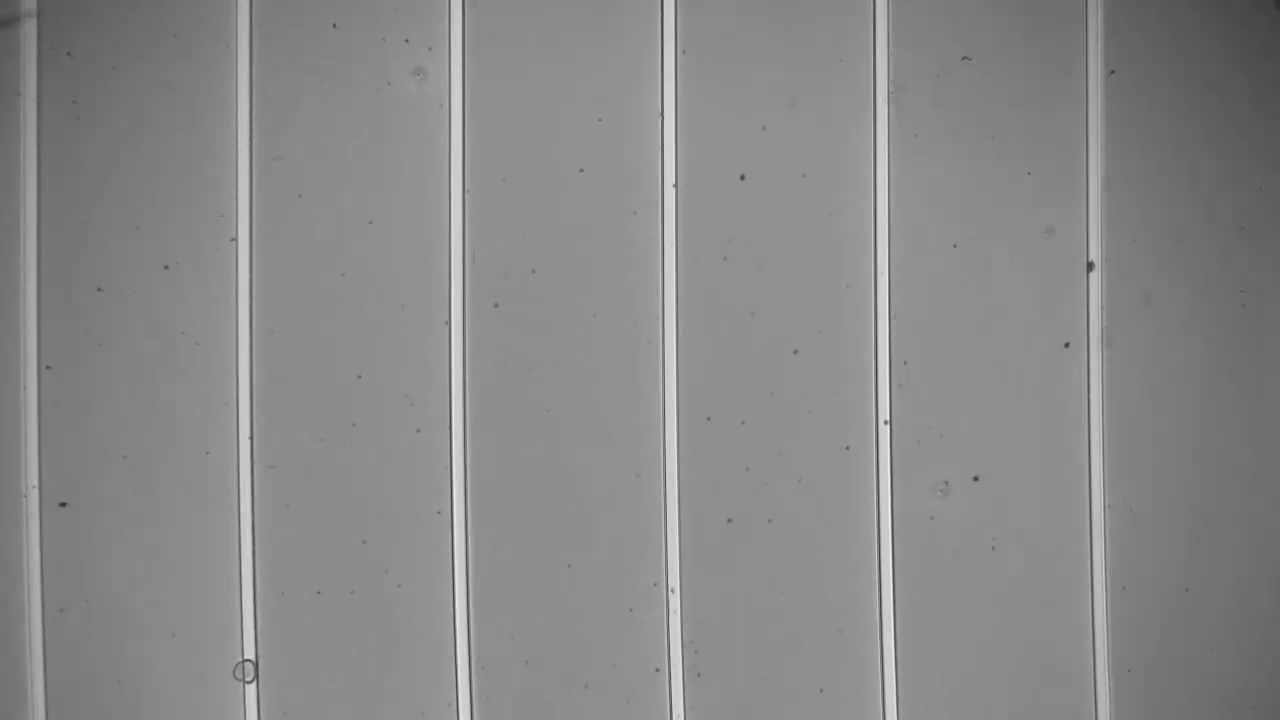stains_enbedded: (1079, 252, 1108, 275)
